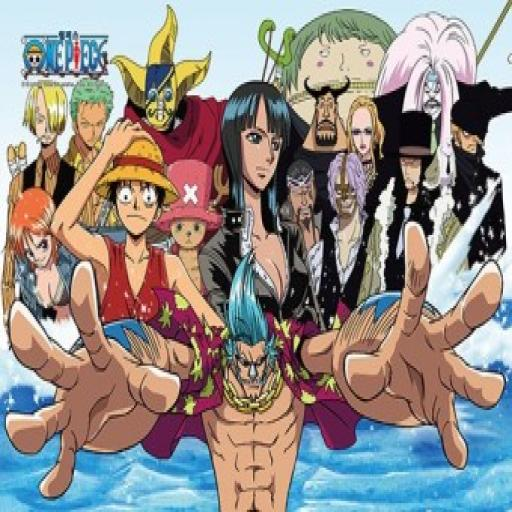Luffy: (98, 126, 174, 238)
Nami: (3, 186, 62, 269)
NicoRobin: (220, 80, 295, 202)
Usopp: (110, 4, 216, 132)
Zoro: (68, 78, 115, 148)
sanji: (18, 71, 69, 157)
